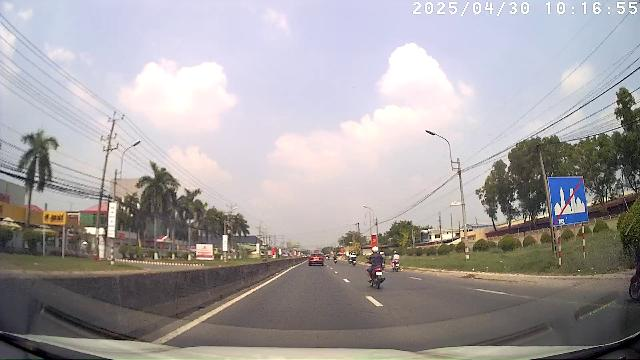421-ket-thuc-khu-dong-dan-cu: (548, 177, 587, 221)
